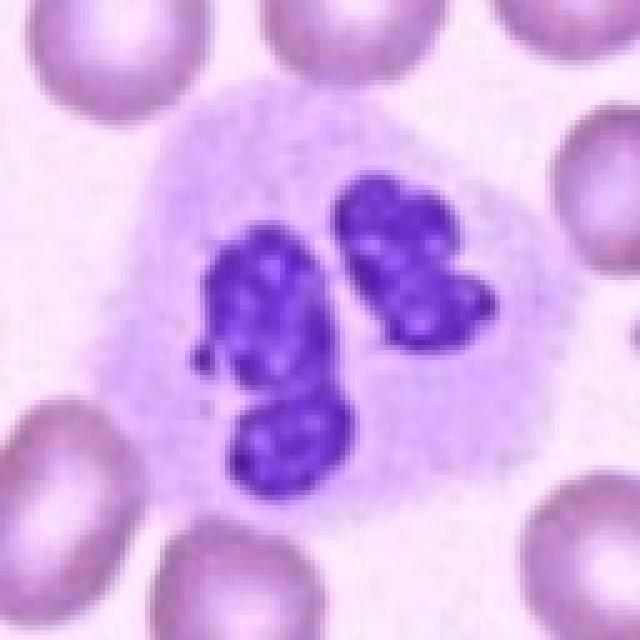neutro: (34, 110, 497, 528)
